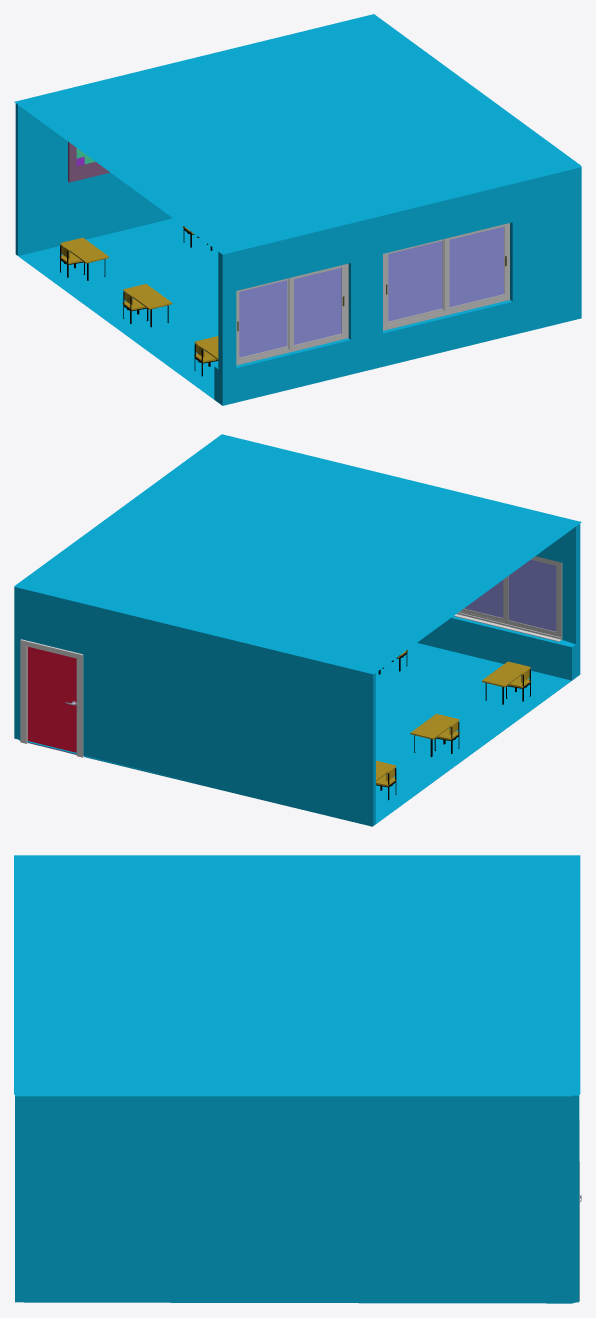
Rendered from CLASSROOM.fbx.
3 renders of one model, top to bottom at view 1: azimuth 30°, elevation 25°; view 2: azimuth 150°, elevation 25°; view 3: azimuth 270°, elevation 25°, orthographic. The views are drawn at different scales.
Parts seen in each view (by area): view 1: Plane.002, Plane.001, Window.R.001, Window.L.001, Window.R, Window.L, Cube.001, WindowFrame.001, Cube.006, WindowFrame; view 2: Plane.002, Plane.001, Door, Window.L, Cube.001, DoorFrame, Window.R, WindowFrame; view 3: Plane.002, Plane.001.
Boxes of the visible parts, bbox=[...] form: Plane.002: bbox=[14, 14, 581, 253]; Plane.001: bbox=[15, 103, 581, 405]; Window.R.001: bbox=[443, 223, 507, 312]; Window.L.001: bbox=[386, 239, 443, 325]; Window.R: bbox=[288, 264, 344, 349]; Window.L: bbox=[237, 278, 288, 361]; Cube.001: bbox=[59, 226, 218, 376]; WindowFrame.001: bbox=[383, 223, 510, 330]; Cube.006: bbox=[68, 141, 109, 182]; WindowFrame: bbox=[236, 263, 348, 365]; Plane.002: bbox=[14, 434, 581, 673]; Plane.001: bbox=[14, 523, 580, 826]; Door: bbox=[27, 647, 76, 754]; Window.L: bbox=[503, 557, 559, 636]; Cube.001: bbox=[376, 650, 531, 800]; DoorFrame: bbox=[20, 639, 83, 757]; Window.R: bbox=[461, 580, 503, 621]; WindowFrame: bbox=[457, 556, 562, 639]; Plane.002: bbox=[14, 855, 580, 1094]; Plane.001: bbox=[15, 1094, 579, 1303].
Bounding box in the file's own units: 4020 × 1662 × 4031.
